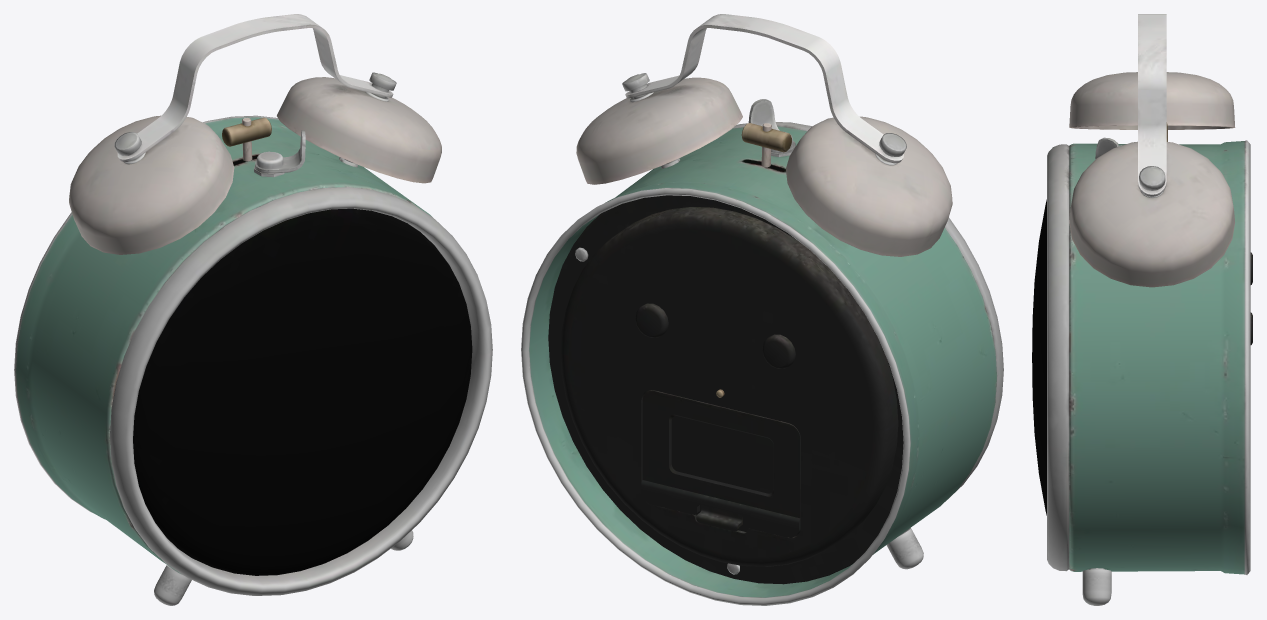
File: alarm_clock_01.glb
The picture shows the model from 3 angles, left to right: view 1: azimuth 30°, elevation 25°; view 2: azimuth 150°, elevation 25°; view 3: azimuth 270°, elevation 25°; orthographic projection. The views are drawn at different scales.
Visible parts, largest first — view 1: alarm_clock_01; view 2: alarm_clock_01; view 3: alarm_clock_01.
Part boxes in pixels (x1,y1,x2,y2): alarm_clock_01: (14,14,492,605); alarm_clock_01: (521,14,1003,605); alarm_clock_01: (1032,14,1252,605).
Bounding box in the file's own units: 0.1317 × 0.1742 × 0.0667.
2 materials, 2 textured.
